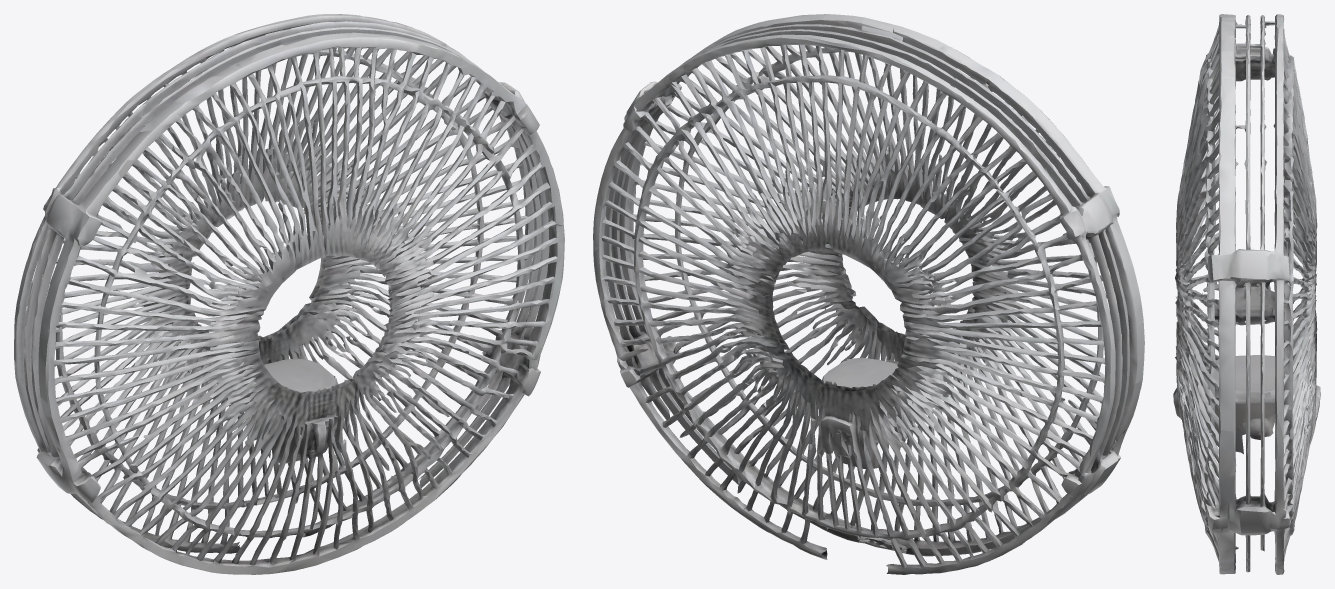
3 views of the same model, side by side, from view 1: azimuth 30°, elevation 25°; view 2: azimuth 150°, elevation 25°; view 3: azimuth 270°, elevation 25° (orthographic). The views are drawn at different scales.
Parts seen in each view (by area): view 1: world; view 2: world; view 3: world.
Boxes of the visible parts, x1,y1,x2,y2 form: world: [14, 14, 564, 574]; world: [593, 14, 1144, 574]; world: [1173, 14, 1320, 574].
Size of the model in its own units: 0.3867 by 0.3714 by 0.0982.
Materials: 1 (1 with a texture image).
